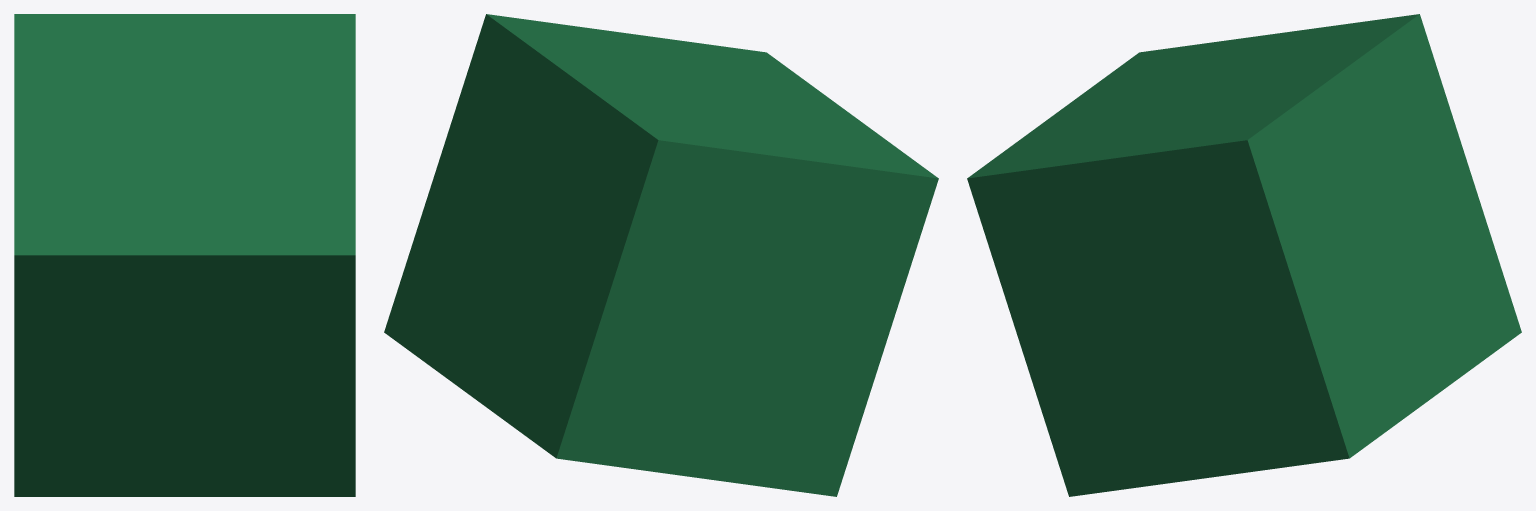
The picture shows the model from 3 angles, left to right: view 1: azimuth 30°, elevation 25°; view 2: azimuth 150°, elevation 25°; view 3: azimuth 270°, elevation 25°; orthographic projection.
Visible parts, largest first — view 1: Cube; view 2: Cube; view 3: Cube.
Part boxes in pixels (x1,y1,x2,y2): Cube: (14, 14, 355, 496); Cube: (384, 14, 938, 496); Cube: (967, 14, 1521, 496).
Size of the model in its own units: 3.01 by 2.56 by 3.22.
